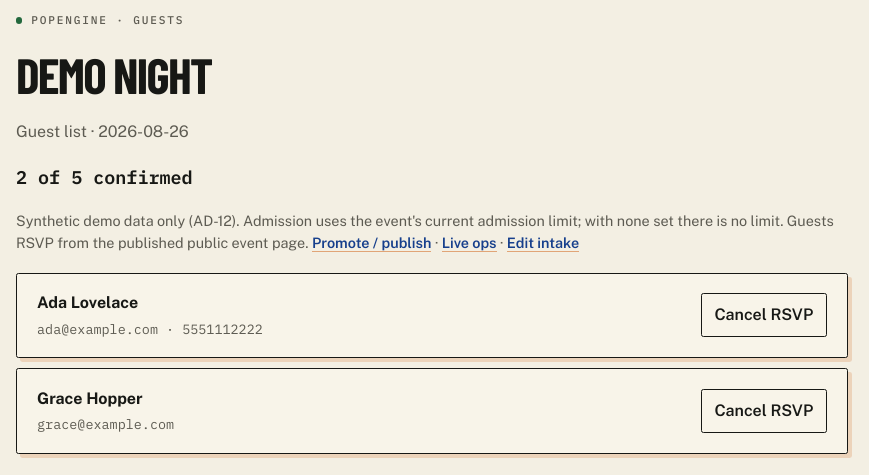
it: GuestListView › keeps the newer cancel reload when overlapping cancels finish out of order
This screenshot has width=869, height=475.
Expected: the text "2 of 5 confirmed" is shown, [16,165,193,189]
Click the button "Cancel RSVP" in the row of "Ada Lovelace" at (764, 315), box [701,293,827,337]
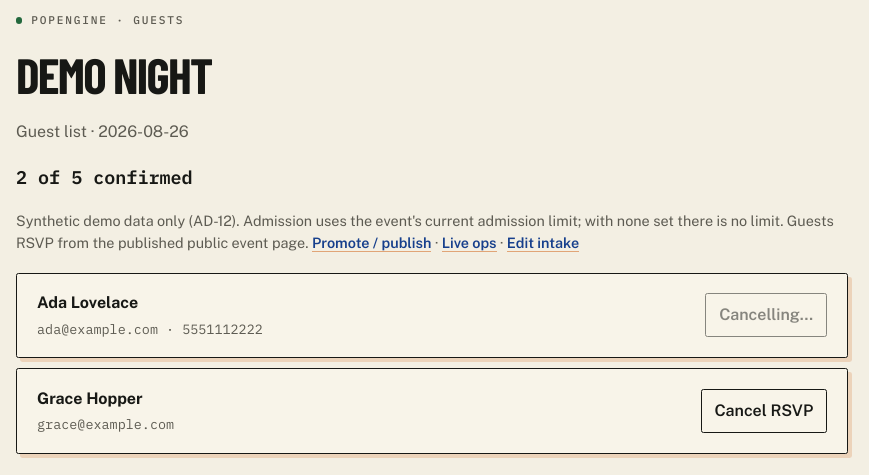
Click the button "Cancel RSVP" at (764, 411), box [701,389,827,433]
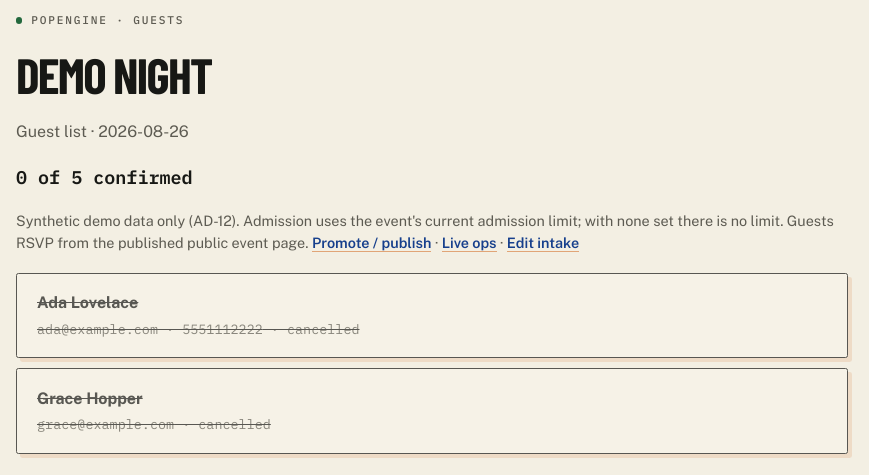
Expected: the text "0 of 5 confirmed" is shown, [16,165,193,189]
